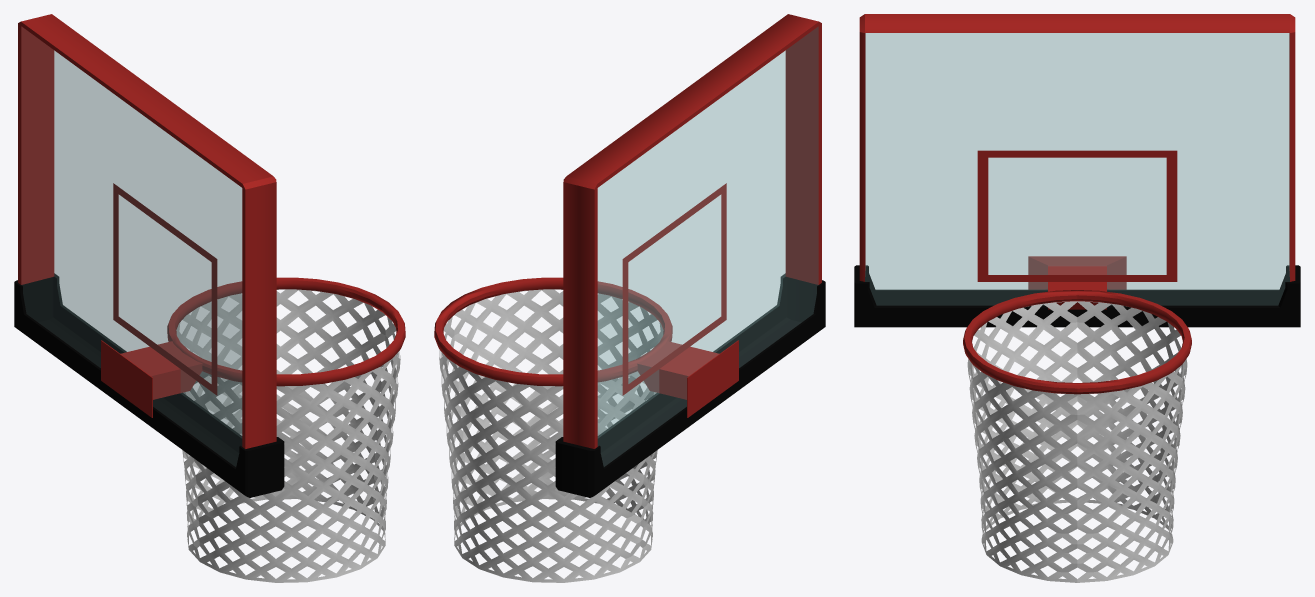
The model's file is BasketBallHoop.fbx.
3 views of the same model, side by side, from view 1: azimuth 30°, elevation 25°; view 2: azimuth 150°, elevation 25°; view 3: azimuth 270°, elevation 25° (orthographic). The views are drawn at different scales.
Parts seen in each view (by area): view 1: BasketballHoop; view 2: BasketballHoop; view 3: BasketballHoop.
Boxes of the visible parts, x1,y1,x2,y2 form: BasketballHoop: [14, 14, 405, 582]; BasketballHoop: [434, 14, 825, 582]; BasketballHoop: [854, 14, 1300, 582].
Size of the model in its own units: 78.93 by 136 by 121.
